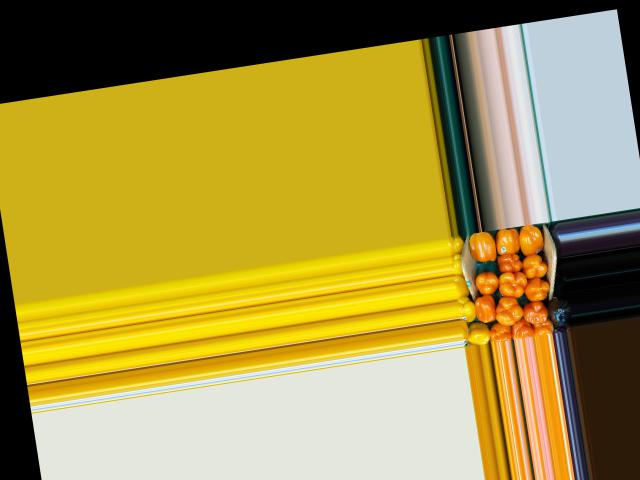bell_pepper: (458, 291, 476, 324)
